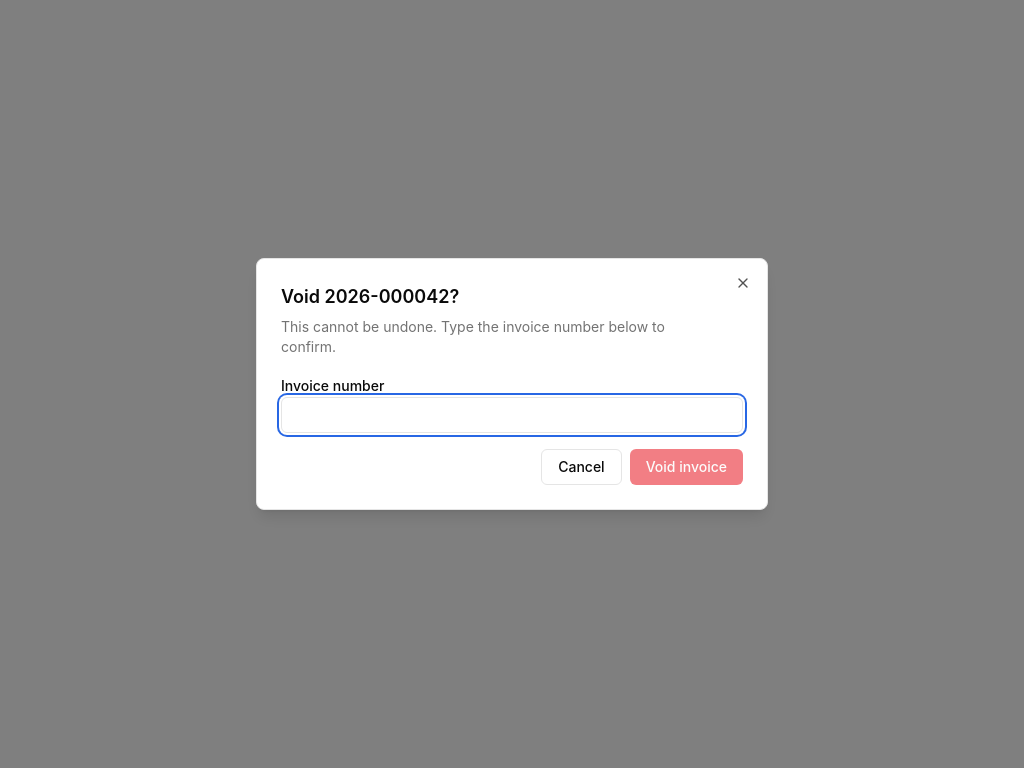
Test: VoidDialog › stays disabled until the invoice number is typed exactly
This screenshot has width=1024, height=768.
Expected: the button "Void invoice" is disabled, x1=630 y1=449 x2=743 y2=485
// Off by one character (the last digit) — a near-miss must still leave the button disabled.
Type "2026-000041" into the field labelled "Invoice number" at coordinates (512, 415), box x1=281 y1=397 x2=743 y2=433
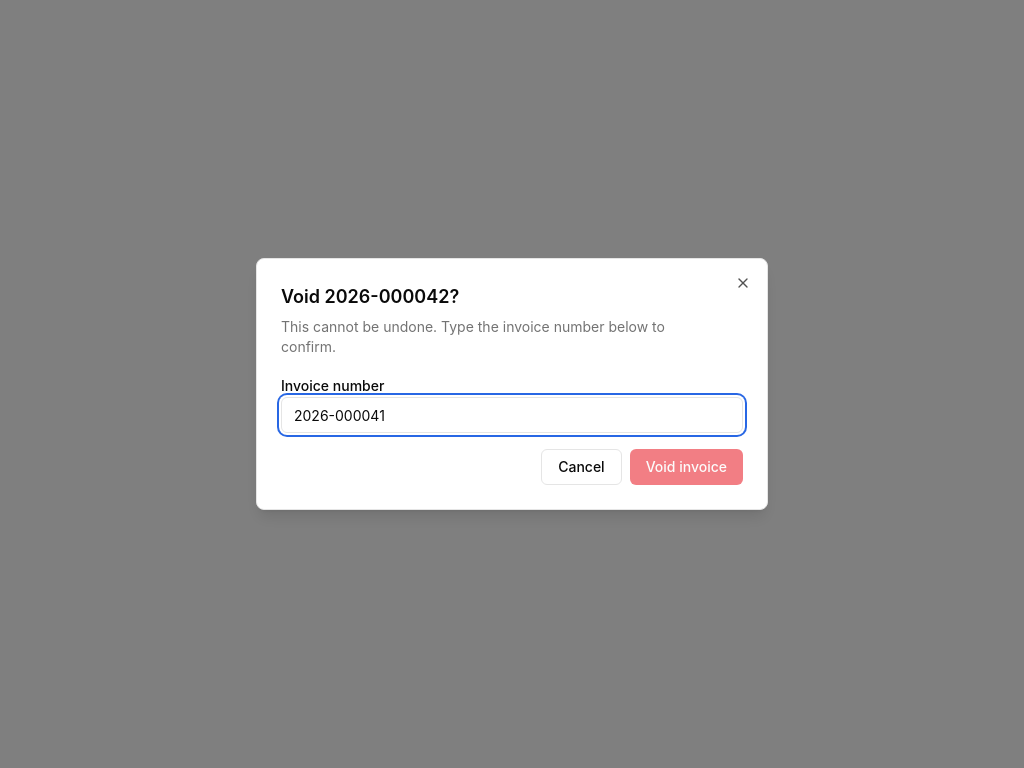
Expected: the button "Void invoice" is disabled, x1=630 y1=449 x2=743 y2=485
Replace the text in the field labelled "Invoice number" with "2026-000042" at coordinates (512, 415), box x1=281 y1=397 x2=743 y2=433
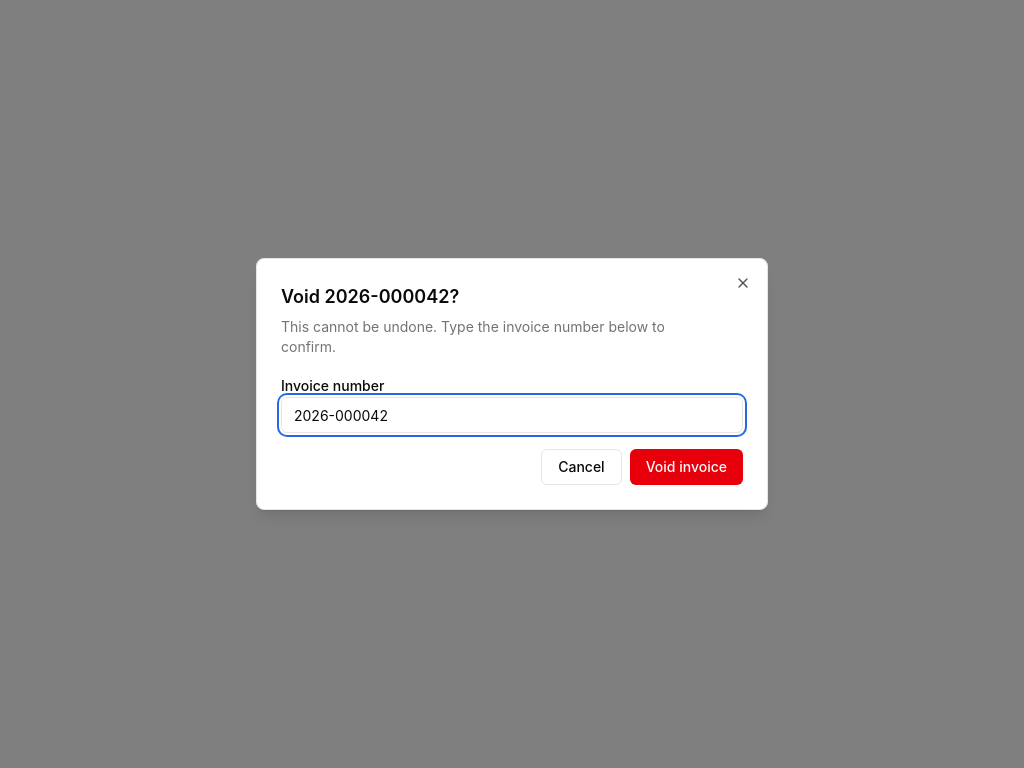
Now the button "Void invoice" is enabled, box x1=630 y1=449 x2=743 y2=485
